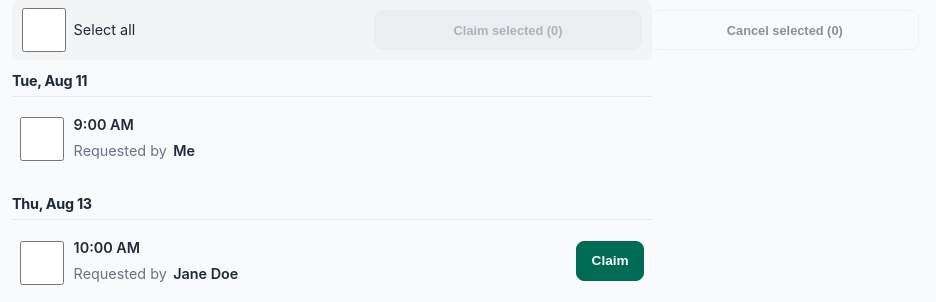
NeedsCoverageList › bulk claim › "Select all" selects both cancellable and claimable rows
Click the checkbox labelled "Select all".
click(44, 30)  # box [22, 8, 66, 52]
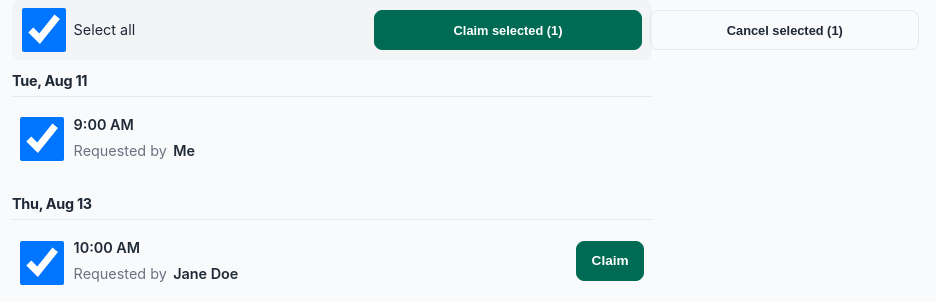
Expected: the checkbox named "2026-08-11" is checked, [20, 117, 64, 161]
Expected: the checkbox named "2026-08-13" is checked, [20, 241, 64, 285]
Expected: the button "Cancel selected (1)" is enabled, [650, 10, 919, 50]
